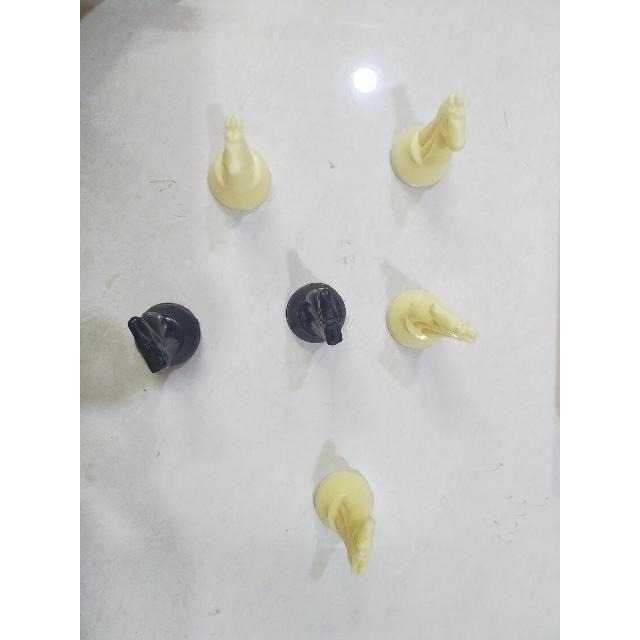black-knight: (123, 298, 202, 377), (284, 280, 350, 352)
white-knight: (387, 88, 471, 193), (309, 466, 378, 578), (204, 112, 274, 215), (382, 284, 480, 353)
